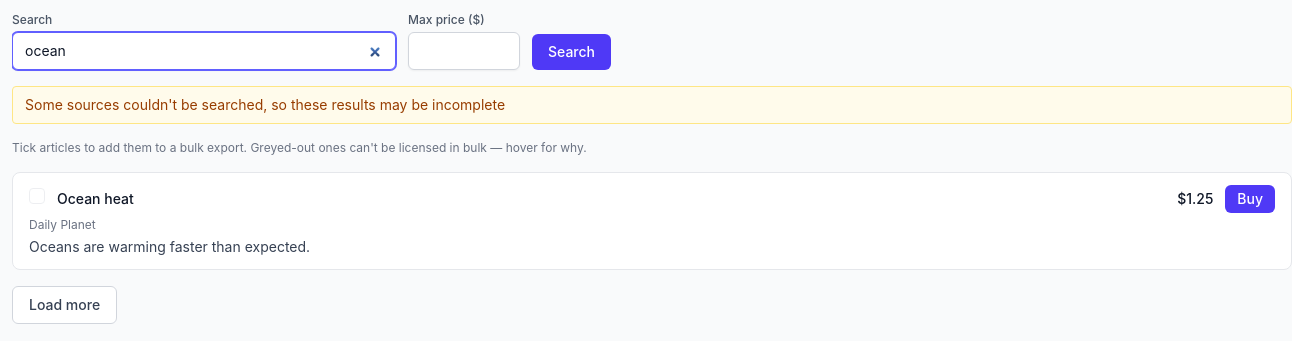
Test: ContentSearch › notes partial results and keeps Load more, which re-asks for the missed part
Expected: the text "Some sources couldn't be searched, so these results may be incomplete" is shown, [12,86,1291,124]
Click the button "Load more": coordinates (65, 305) [12,286,117,324]
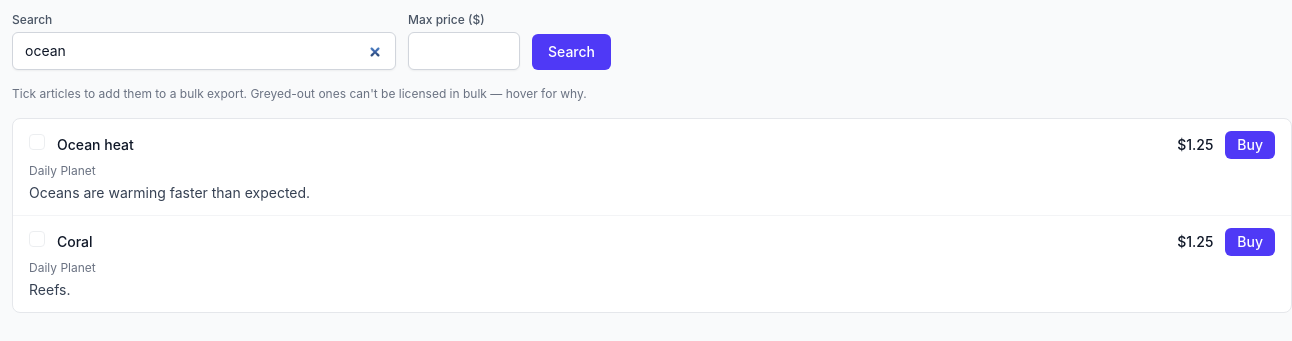
Now the text "Coral" is shown, box [57,232,93,252]
Now the text "couldn't be searched" is gone
